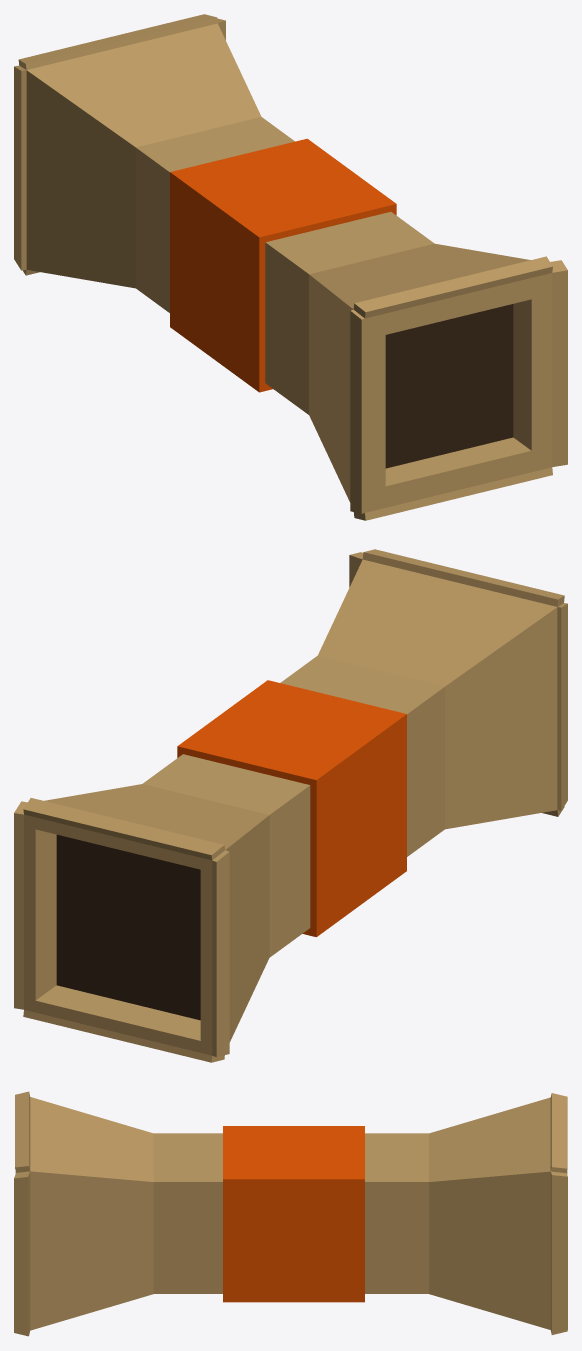
The model's file is firescrollt1.glb.
3 views of the same model, one above another, from view 1: azimuth 30°, elevation 25°; view 2: azimuth 150°, elevation 25°; view 3: azimuth 270°, elevation 25° (orthographic). The views are drawn at different scales.
Visible parts, largest first — view 1: Cube; view 2: Cube; view 3: Cube.
Part boxes in pixels (x1,y1,x2,y2): Cube: (14, 14, 567, 520); Cube: (14, 549, 567, 1062); Cube: (14, 1091, 567, 1336).
Size of the model in its own units: 0.7029 by 0.6835 by 2.01.
